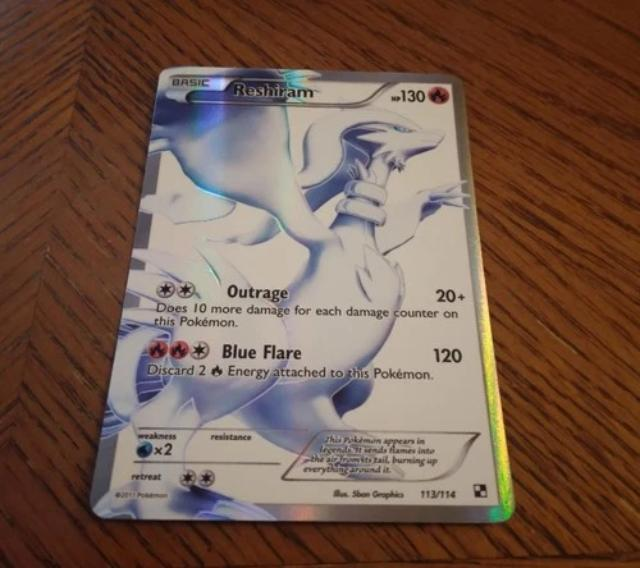Card: (83, 61, 518, 526)
Name: (227, 78, 320, 101)
